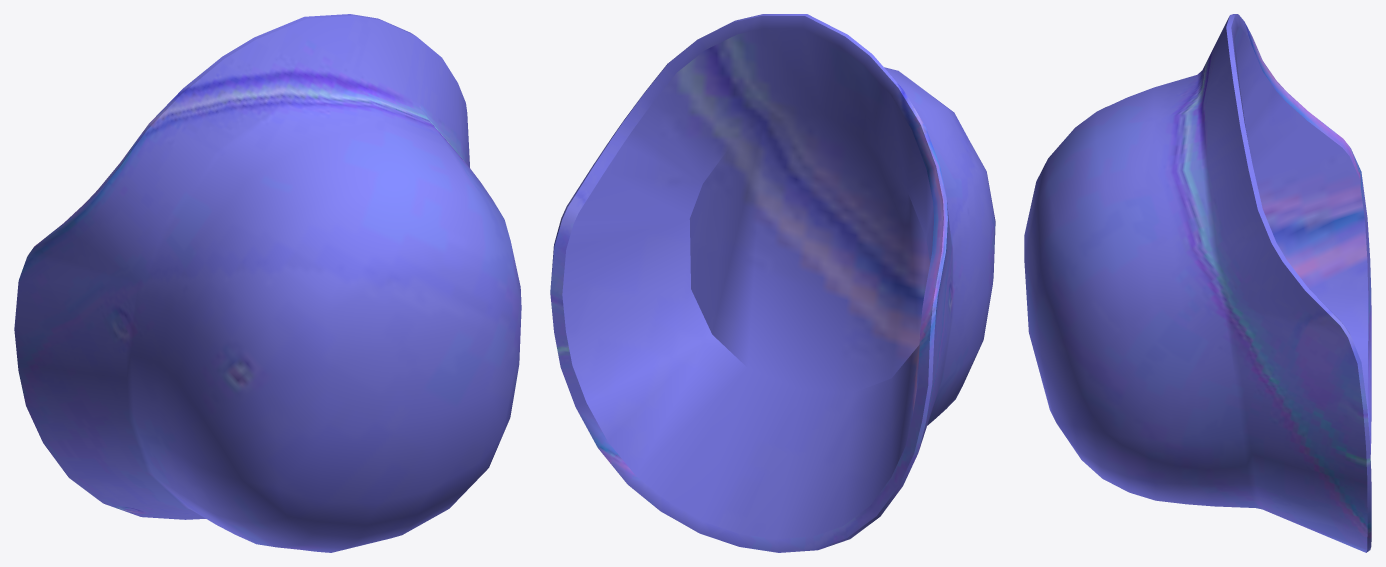
Rendered from Headwear66.glb.
The picture shows the model from 3 angles, left to right: view 1: azimuth 30°, elevation 25°; view 2: azimuth 150°, elevation 25°; view 3: azimuth 270°, elevation 25°; orthographic projection. The views are drawn at different scales.
Visible parts, largest first — view 1: Headwear66; view 2: Headwear66; view 3: Headwear66.
Part boxes in pixels (box(x1,y1,x2,y2)): Headwear66: box(14, 14, 521, 552); Headwear66: box(550, 14, 995, 552); Headwear66: box(1024, 14, 1371, 552).
Bounding box in the file's own units: 2.31 × 2.79 × 1.75.
1 material, 1 textured.
